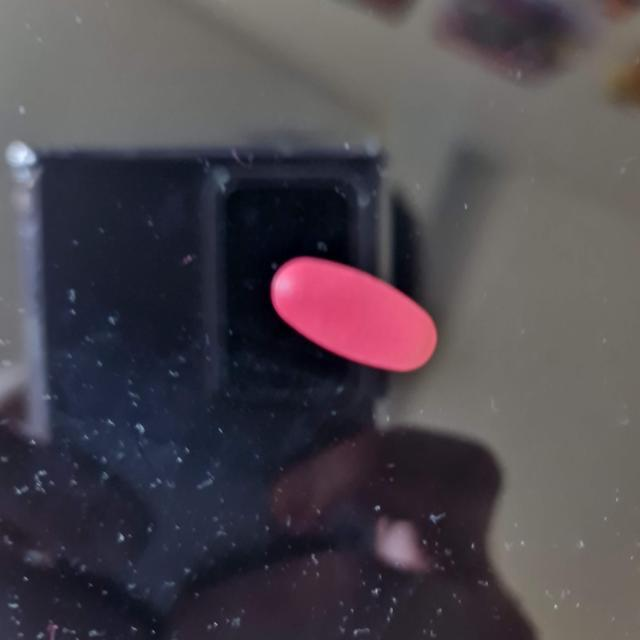pill: (274, 256, 436, 371)
